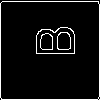B: (24, 25, 76, 58)
